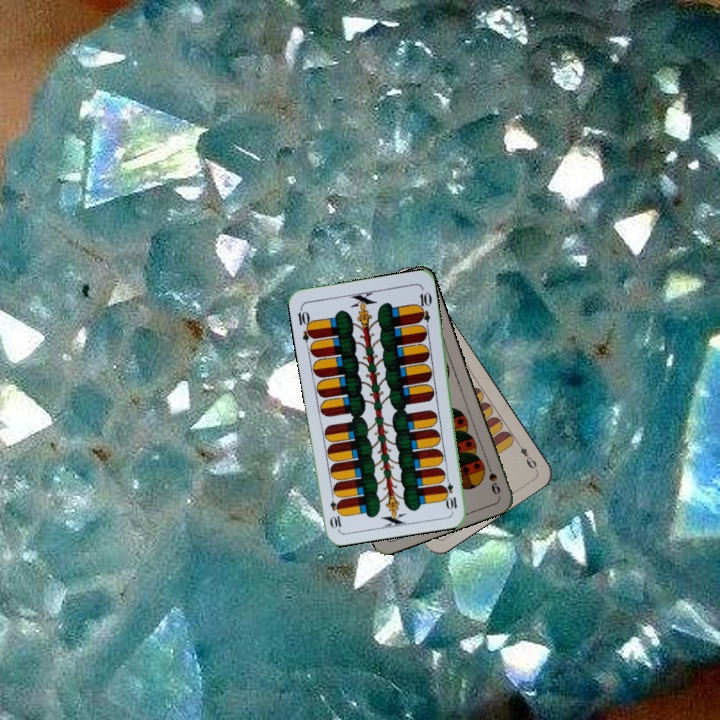E10: (294, 304, 317, 344), (441, 471, 460, 512)
E9: (512, 436, 540, 473)
S9: (482, 458, 503, 498)
